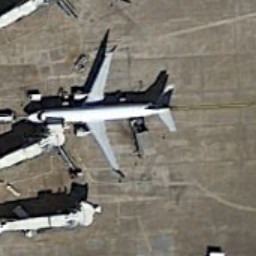Airplane: (23, 38, 188, 178)
